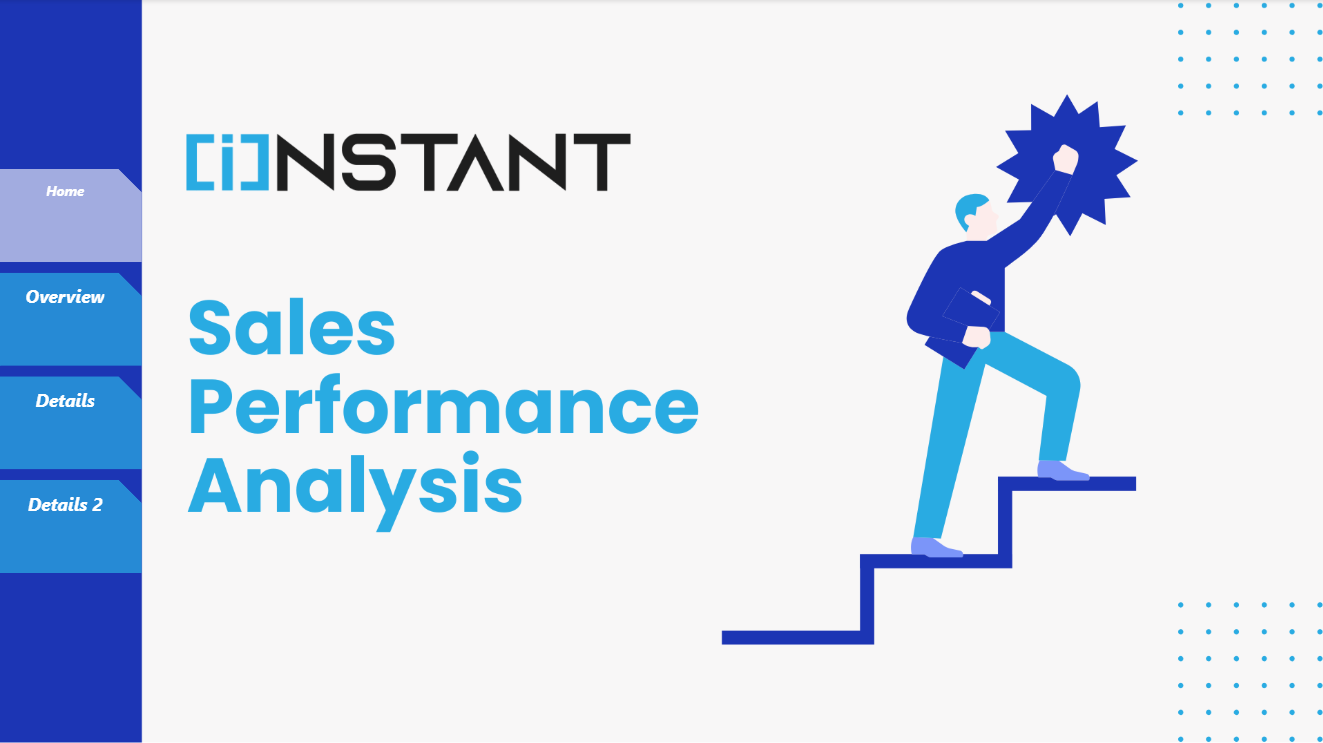

This screenshot's page, from the dashboard's own definition file:
{"tool":"powerbi","page":{"name":"Home","canvas":[1280,720],"ordinal":0},"visuals":[{"type":"pageNavigator","box":[0,164.4,137.1,390],"z":0}]}

Visuals, with their boxes in screenshot pixels (x1, y1, x2, y2), scaled from the page's 1280x720 canvas onto the 1323x743 screenshot:
pageNavigator: {"x1": 0, "y1": 170, "x2": 142, "y2": 572}
